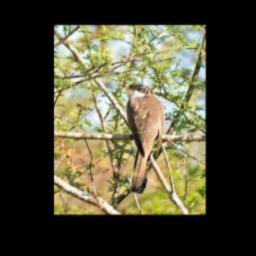Cuckoo: (117, 83, 166, 193)
